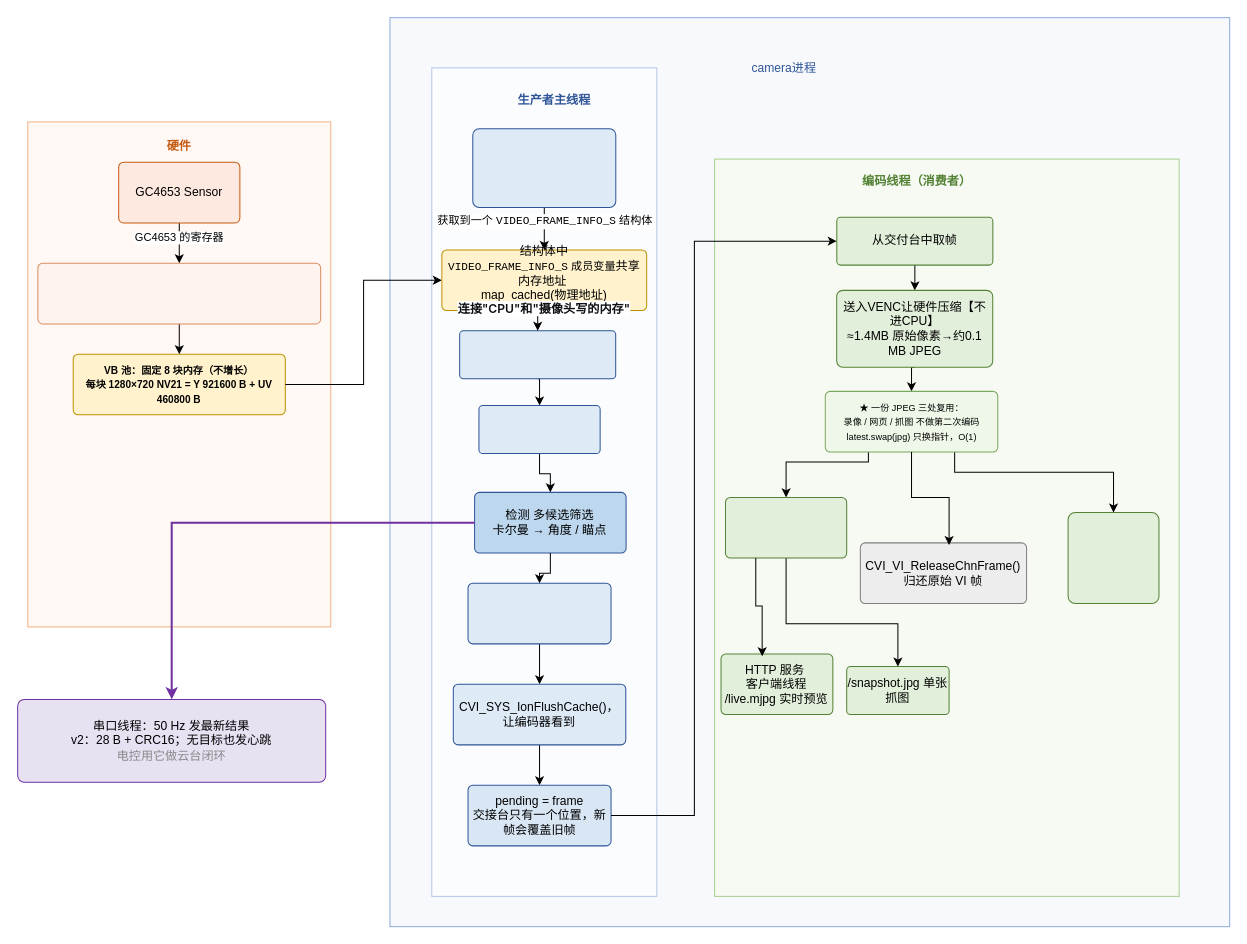
Some shapes in this 1247 by 944 pixel diagram are drawn without their labels. The shapes that lost their labels are listed below. From the top down, each one's centre as x and y in pixels, then its label:
At pixel 544 168: "取帧 CVI_VI_GetChnFrame() 物理内存 0x8ace8000 同时记 帧号·时刻·PTS".
At pixel 179 293: "硬件把 Bayer RAW 经 MIPI 送入 VI；VI/ISP 在硬件里完成去马赛克、 曝光增益、转成 NV21，然后 DMA 直写 DRAM".
At pixel 537 354: "读取 虚拟A-17地址 的像素".
At pixel 539 429: "抽点 320×180 每 4×4 块取代表点，数据量降到 1/16".
At pixel 785 527: "HTTP 客户端读取最新帧".
At pixel 1113 557: "写录像 recordings/*.avi".
At pixel 539 613: "命中时：在 Y 平面写 3px 白框".
